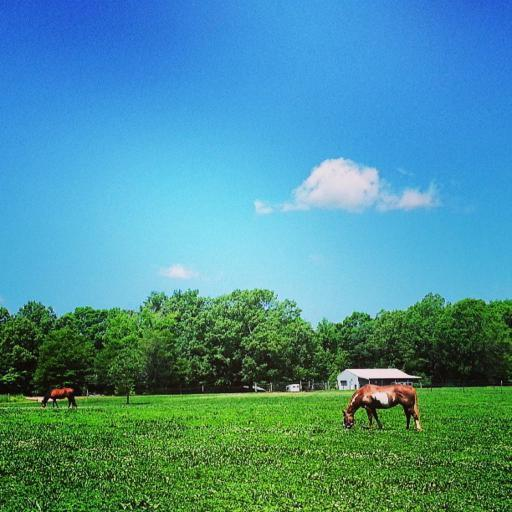horse: (341, 383, 421, 431), (39, 388, 79, 408)
